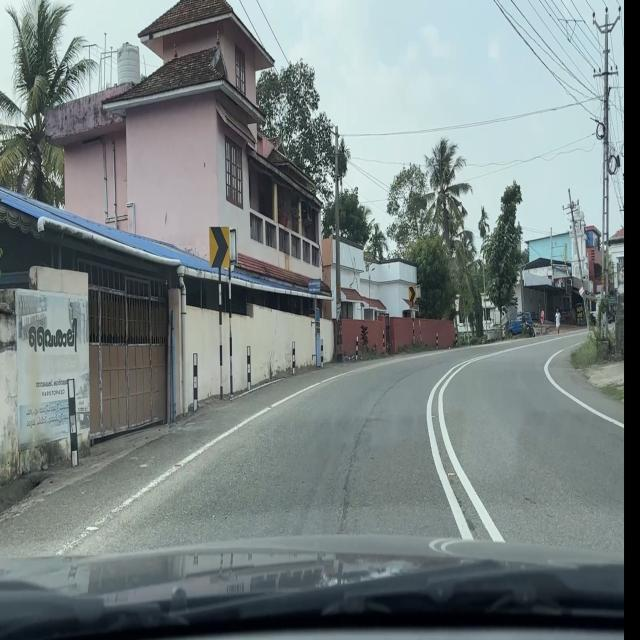TURN_RIGHT: (209, 226, 230, 268), (408, 286, 416, 302)
